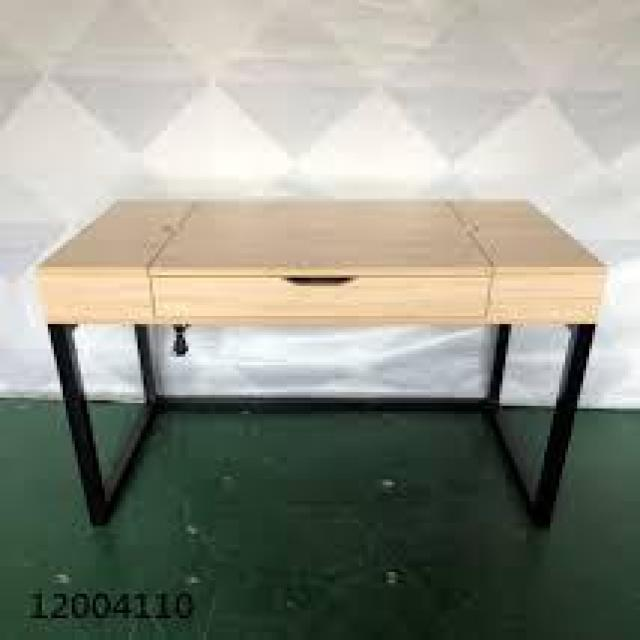table: (33, 148, 619, 557)
